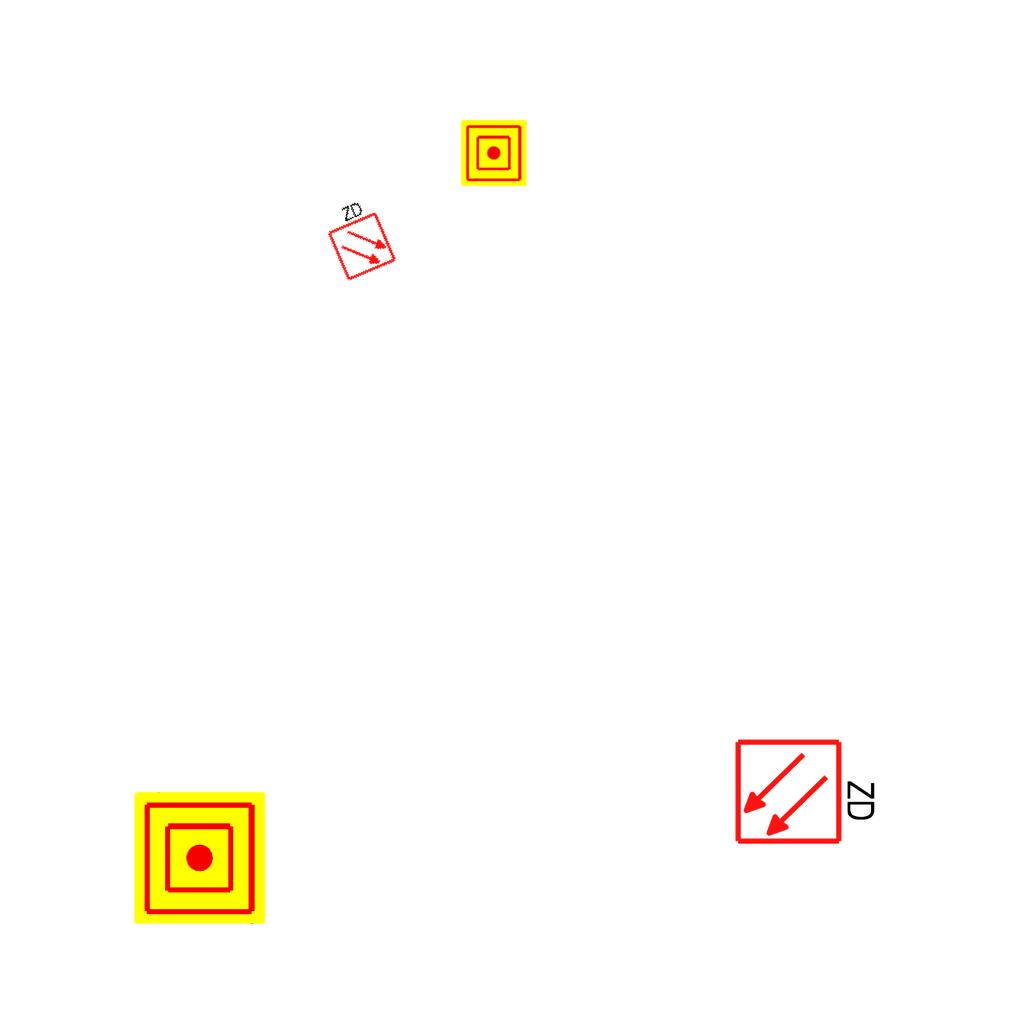NAM-Nichtautomatischer_Melder: (134, 792, 266, 924), (461, 120, 527, 186)
ZD_Melder_in_Zwischendecke_mit_Revisionsoeffnung_mind_40_x_40_cm: (733, 733, 882, 847), (316, 192, 399, 284)
